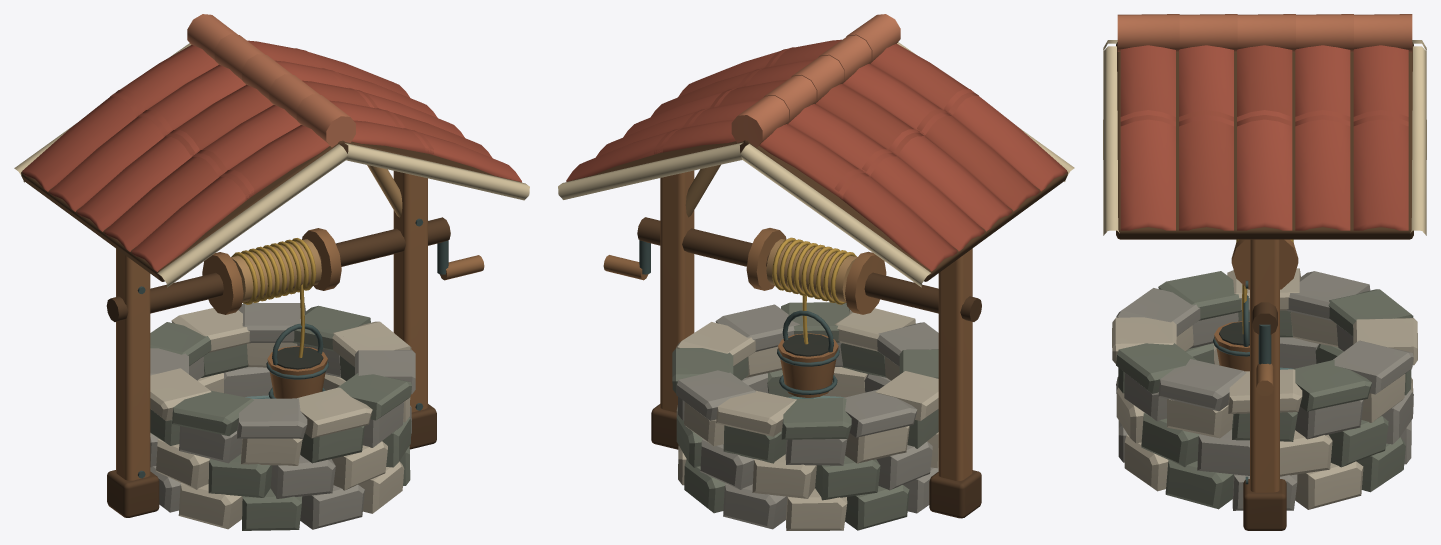
File: pozo.glb
3 renders of one model, left to right at view 1: azimuth 30°, elevation 25°; view 2: azimuth 150°, elevation 25°; view 3: azimuth 270°, elevation 25°, orthographic. The views are drawn at different scales.
Parts seen in each view (by area): view 1: pozo, pz_manivela; view 2: pozo, pz_manivela; view 3: pozo, pz_manivela.
Part boxes in pixels (bbox=[...]): pozo: bbox=[14, 14, 529, 530]; pz_manivela: bbox=[106, 217, 484, 321]; pozo: bbox=[558, 14, 1074, 530]; pz_manivela: bbox=[603, 217, 981, 321]; pozo: bbox=[1103, 14, 1426, 530]; pz_manivela: bbox=[1231, 239, 1298, 395].
Size of the model in its own units: 2.32 by 2.32 by 1.56.
